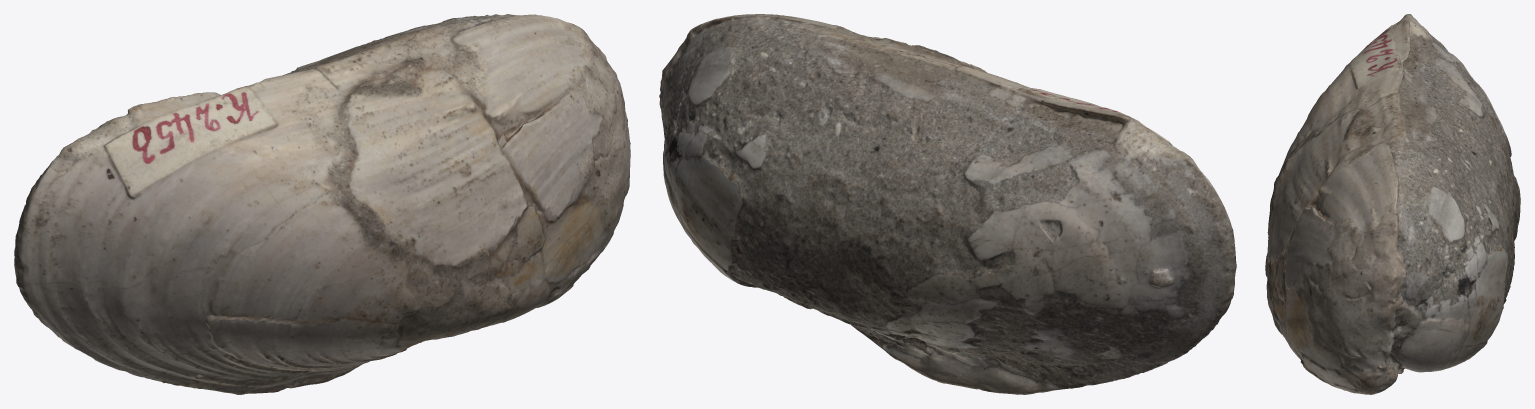
File: EWS0016397.glb
3 renders of one model, left to right at view 1: azimuth 30°, elevation 25°; view 2: azimuth 150°, elevation 25°; view 3: azimuth 270°, elevation 25°, orthographic. The views are drawn at different scales.
Parts seen in each view (by area): view 1: input; view 2: input; view 3: input.
Part boxes in pixels (x1=…): input: x1=14, y1=14, x2=630, y2=394; input: x1=659, y1=14, x2=1236, y2=394; input: x1=1265, y1=14, x2=1520, y2=394.
Size of the model in its own units: 0.0449 by 0.0236 by 0.0199.
1 material, 1 textured.
